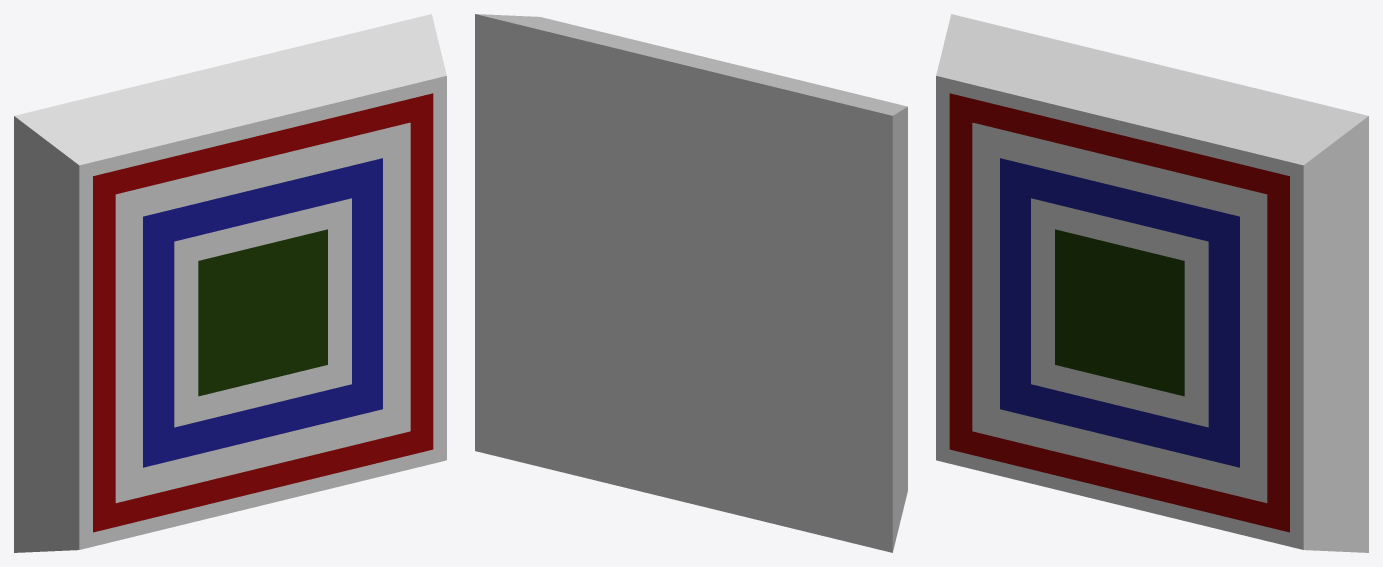
File: SciFi_Semiotic_Refridgerated_Storage_Organic_Foodstuffs_01.fbx
The picture shows the model from 3 angles, left to right: view 1: azimuth 30°, elevation 25°; view 2: azimuth 150°, elevation 25°; view 3: azimuth 330°, elevation 25°; orthographic projection.
Visible parts, largest first — view 1: SciFi_Semiotic_Refridgerated_Storage_Organic_Foodstuffs_01; view 2: SciFi_Semiotic_Refridgerated_Storage_Organic_Foodstuffs_01; view 3: SciFi_Semiotic_Refridgerated_Storage_Organic_Foodstuffs_01.
Boxes of the visible parts, left/top/right/bottom form: SciFi_Semiotic_Refridgerated_Storage_Organic_Foodstuffs_01: left=14, top=14, right=446, bottom=552; SciFi_Semiotic_Refridgerated_Storage_Organic_Foodstuffs_01: left=475, top=14, right=907, bottom=552; SciFi_Semiotic_Refridgerated_Storage_Organic_Foodstuffs_01: left=936, top=14, right=1368, bottom=552.
Bounding box in the file's own units: 15.81 × 15.81 × 2.64.
